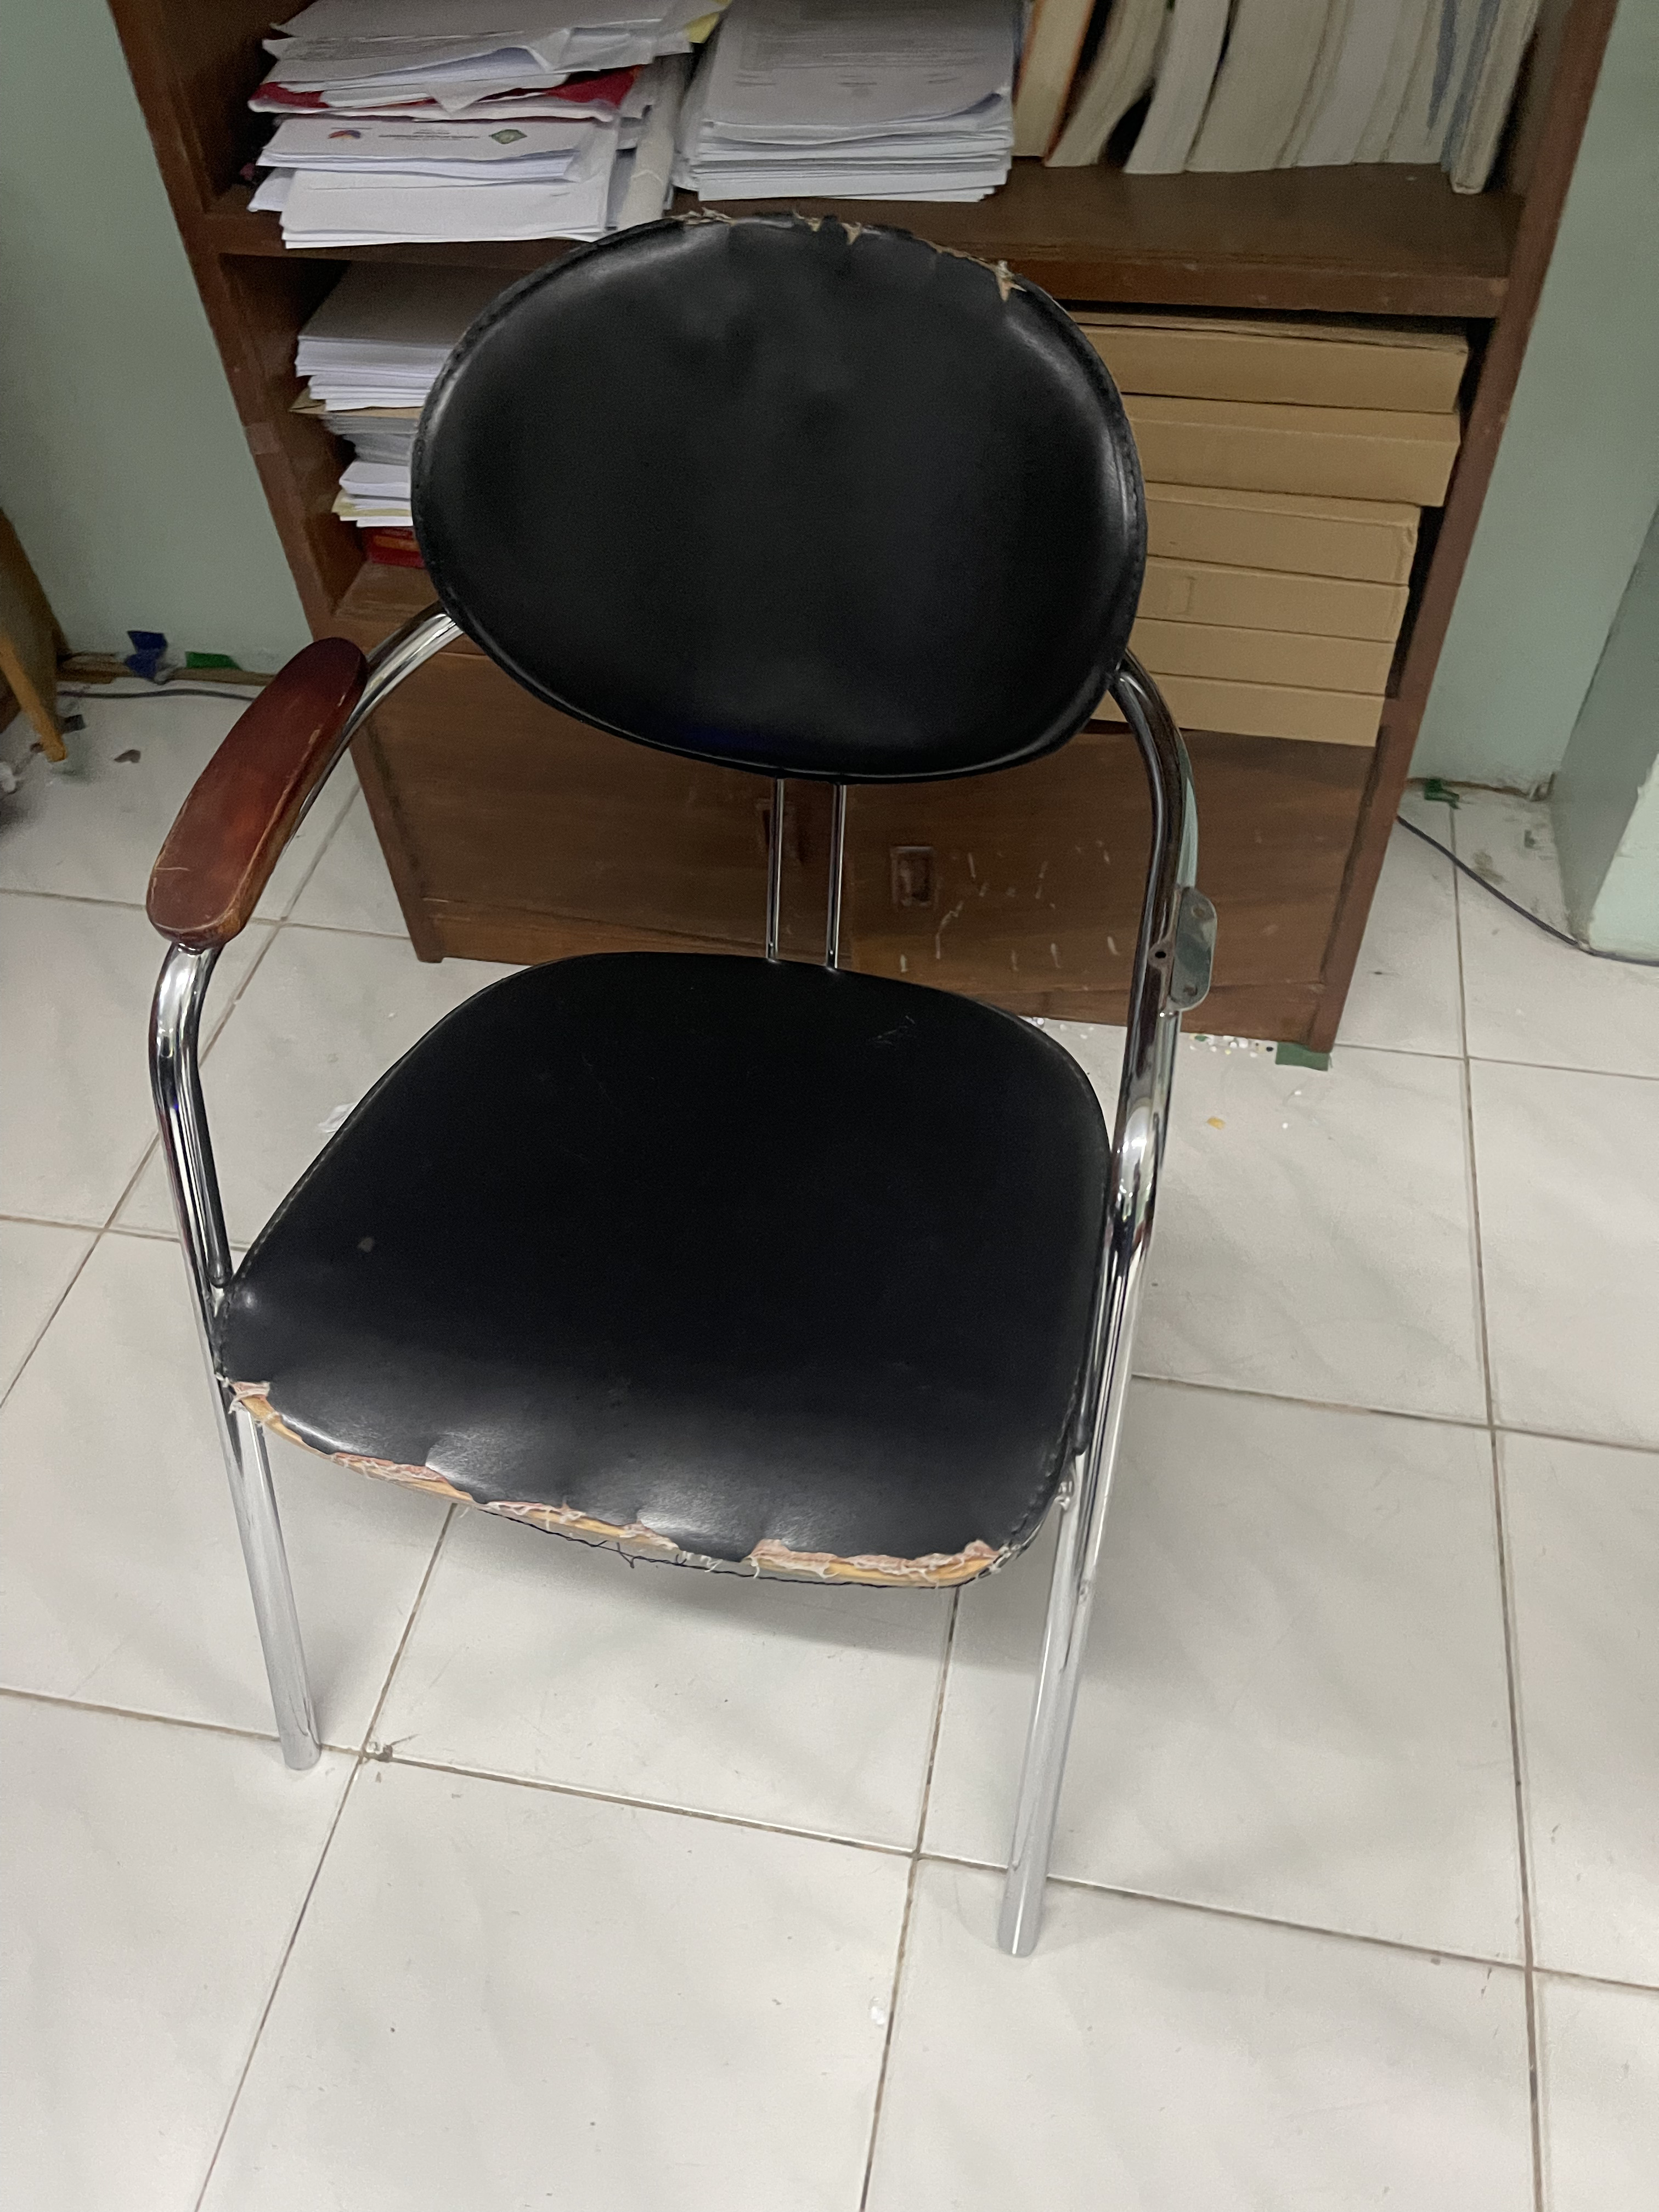chair1: (146, 216, 1216, 1958)
